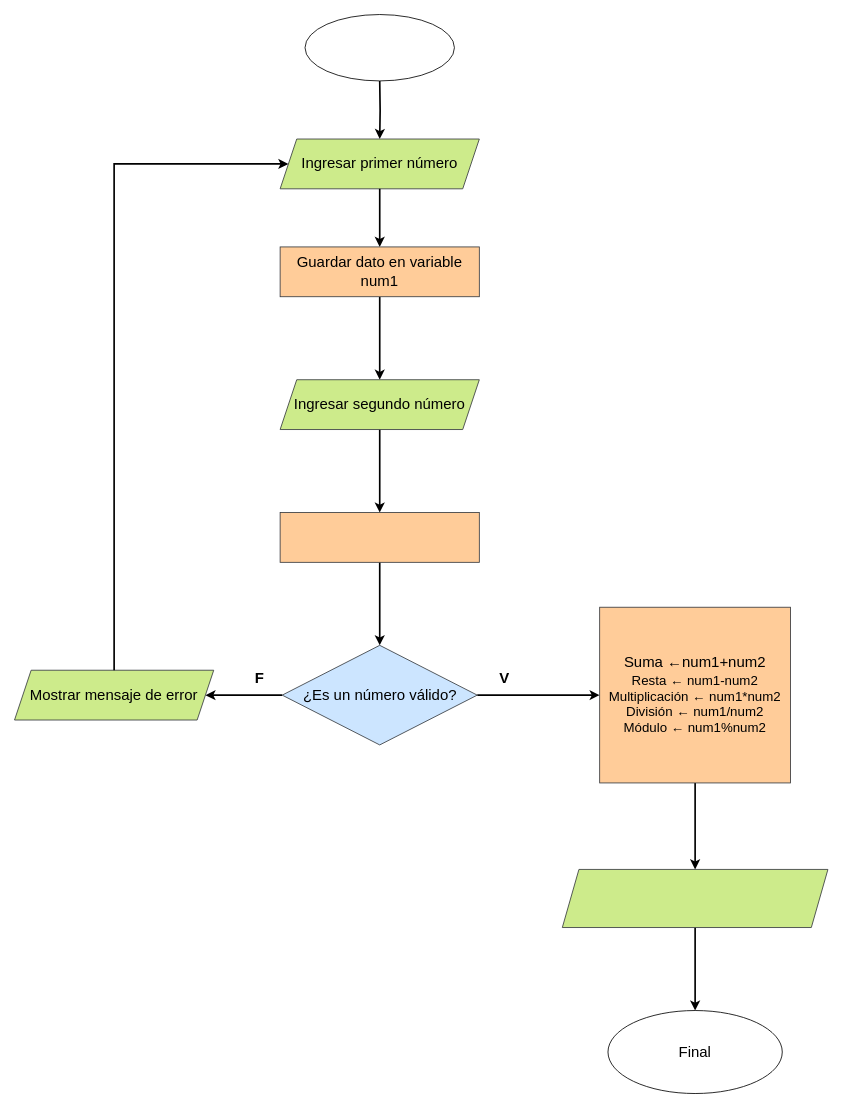
The diagram is 842 pixels wide and 1108 high, and some of its shapes have lost their labels. The shapes that lost their labels are listed below. From the top down, each one's centre as x and y in pixels, then its label:
At point 379,47: "Inicio".
At point 379,537: "Guardar dato en variable num2".
At point 694,898: "Mostrar resultado de operaciones".
